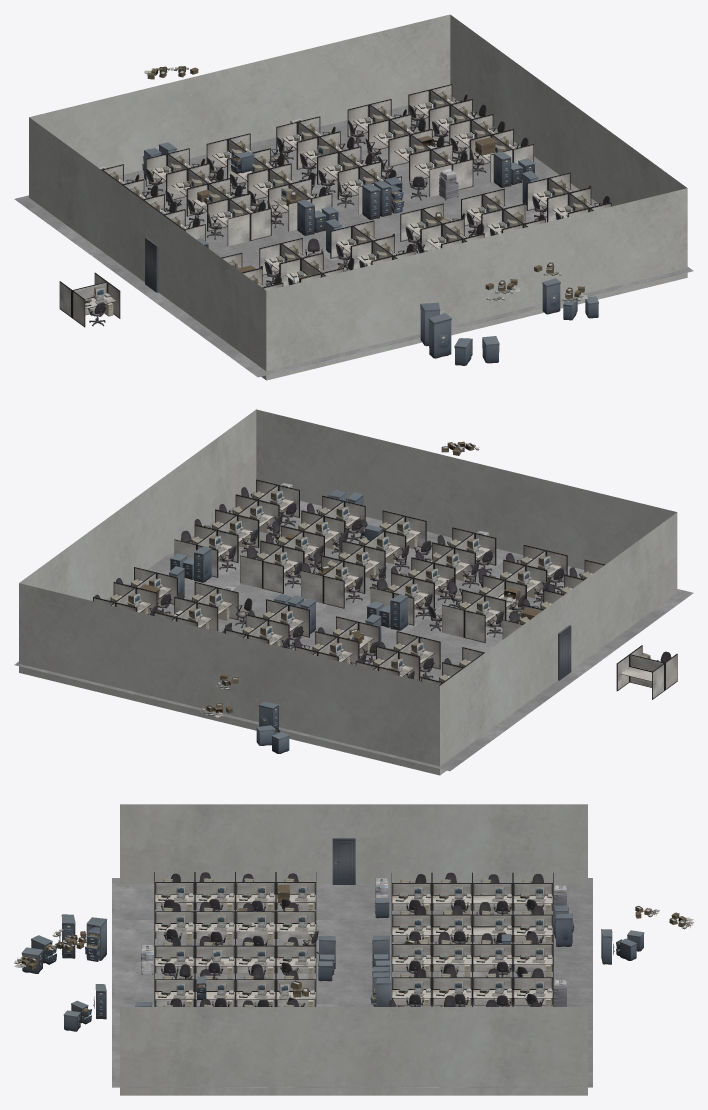
The model's file is офис фб2.fbx.
3 renders of one model, top to bottom at view 1: azimuth 30°, elevation 25°; view 2: azimuth 150°, elevation 25°; view 3: azimuth 270°, elevation 25°, orthographic.
Parts seen in each view (by area): view 1: стены, Plane, node_0.016, Cube.011, Cube.014, Cube.013, Cube.012, Cube.015, node_0, Cube.002, Cube.007, Cube.006 (+13 smaller); view 2: стены, Plane, Cube.006, Cube.005, Cube.008, Cube.002, Cube.007, node_0.016, Cube.014, Cube.011, Cube.013, Cube.015 (+12 smaller); view 3: стены, Plane, Cube.008, Cube.012, Cube.007, Cube.013, Cube.010, Cube.011, Cube.009, Cube.006, node_0.016, node_0 (+11 smaller).
Part boxes in pixels (<box>): стены: <box>29,14,687,380</box>; Plane: <box>14,97,693,377</box>; node_0.016: <box>196,151,598,320</box>; Cube.011: <box>146,148,271,246</box>; Cube.014: <box>347,99,473,196</box>; Cube.013: <box>276,116,401,214</box>; Cube.012: <box>206,133,332,231</box>; Cube.015: <box>408,84,533,182</box>; node_0: <box>420,302,499,365</box>; Cube.002: <box>526,172,611,222</box>; Cube.007: <box>330,220,415,269</box>; Cube.006: <box>400,203,484,251</box>; стены: <box>19,409,677,775</box>; Plane: <box>14,490,693,771</box>; Cube.006: <box>301,510,426,608</box>; Cube.005: <box>240,495,365,593</box>; Cube.008: <box>442,545,567,642</box>; Cube.002: <box>174,479,299,577</box>; Cube.007: <box>370,527,496,625</box>; node_0.016: <box>169,490,408,642</box>; Cube.014: <box>153,582,238,630</box>; Cube.011: <box>355,631,440,680</box>; Cube.013: <box>225,599,309,648</box>; Cube.015: <box>93,567,177,614</box>; стены: <box>120,804,587,1095</box>; Plane: <box>112,878,592,1087</box>; Cube.008: <box>154,901,316,945</box>; Cube.012: <box>391,933,553,977</box>; Cube.007: <box>154,935,316,979</box>; Cube.013: <box>391,967,553,1006</box>; Cube.010: <box>391,872,553,914</box>; Cube.011: <box>391,904,553,943</box>; Cube.009: <box>154,872,316,911</box>; Cube.006: <box>154,969,316,1006</box>; node_0.016: <box>63,898,390,1031</box>; node_0: <box>21,914,107,973</box>.
Size of the model in its own units: 1739 by 290 by 2019.
